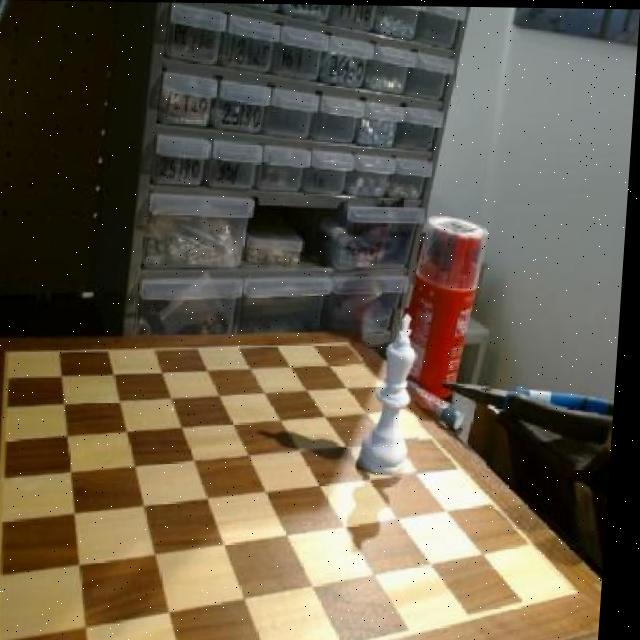white-bishop: (361, 307, 431, 477)
